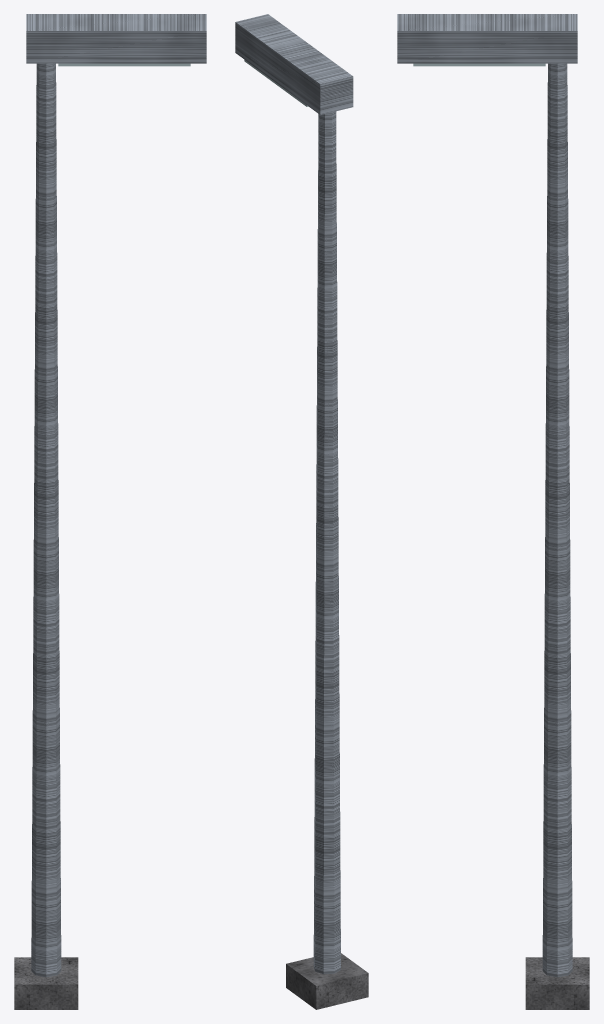
The model's file is street_lamp.fbx.
3 renders of one model, left to right at view 1: azimuth 90°, elevation 25°; view 2: azimuth 210°, elevation 25°; view 3: azimuth 270°, elevation 25°, orthographic. The views are drawn at different scales.
Visible parts, largest first — view 1: street_lamp; view 2: street_lamp; view 3: street_lamp.
Part boxes in pixels (<box>): street_lamp: <box>14,14,206,1009</box>; street_lamp: <box>235,14,368,1009</box>; street_lamp: <box>397,14,589,1009</box>.
Size of the model in its own units: 32 by 536 by 96.
